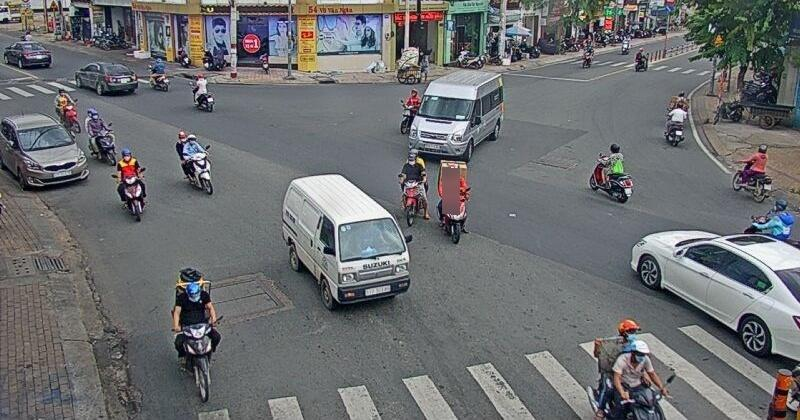xe hoi: (629, 230, 800, 356), (0, 112, 89, 189), (75, 62, 138, 97)
xe may: (586, 320, 669, 420), (170, 271, 219, 401), (589, 143, 633, 203), (110, 149, 146, 221), (438, 167, 470, 244), (397, 148, 428, 227), (175, 131, 213, 195), (731, 144, 772, 202), (85, 107, 116, 168), (55, 87, 81, 132), (398, 88, 419, 134), (191, 73, 214, 112)
xe van: (282, 176, 408, 310), (408, 70, 503, 160)
